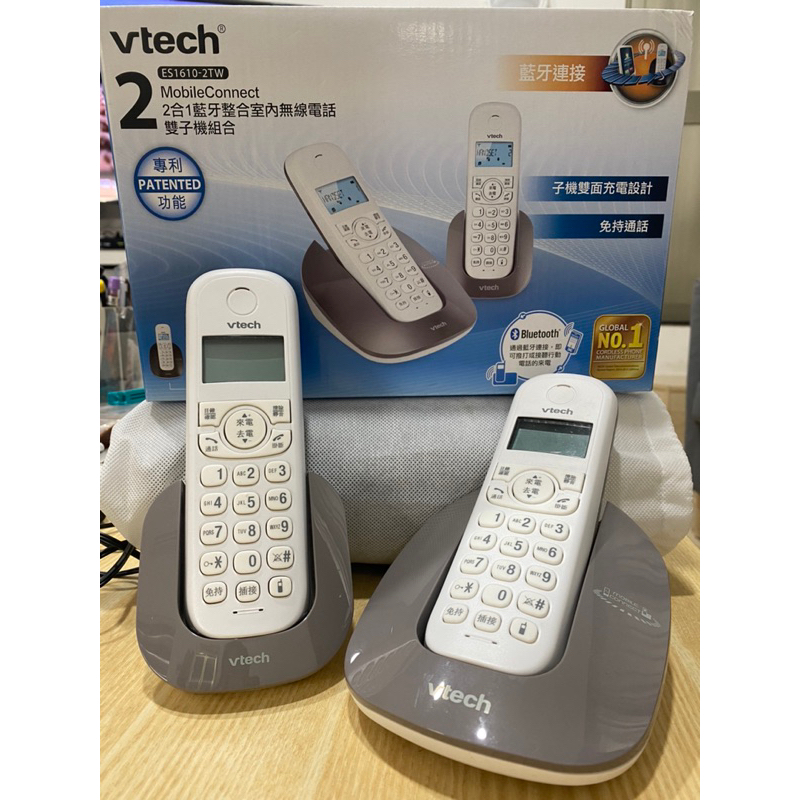telephone: (420, 370, 620, 676), (183, 264, 308, 642)
